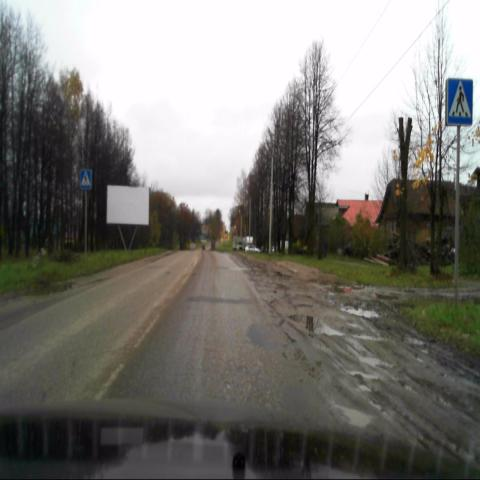5_19_1: (445, 78, 473, 125), (80, 168, 91, 186)
